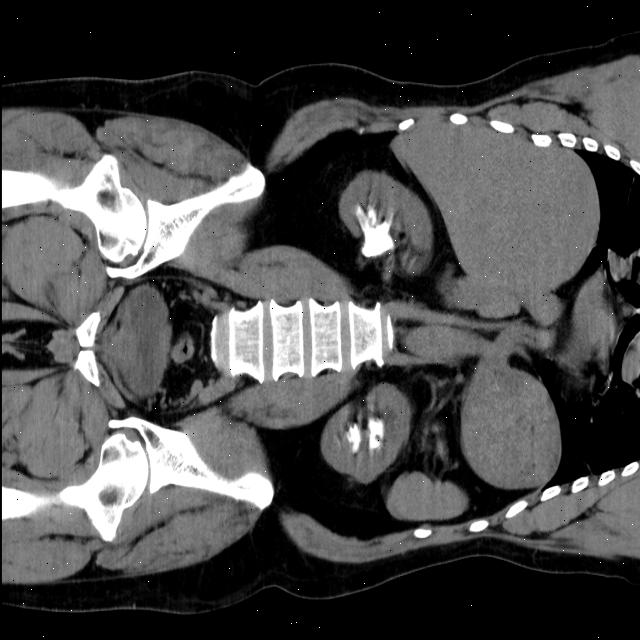kidneystone: (358, 212, 392, 256), (368, 418, 384, 450), (346, 423, 359, 445)
